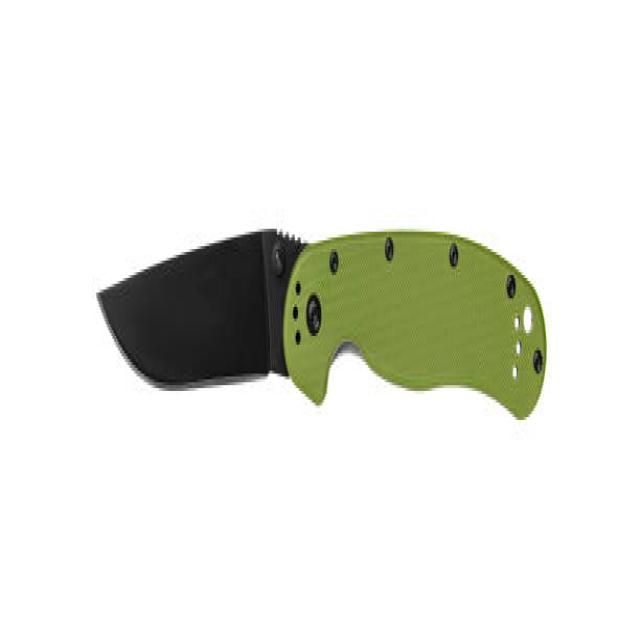knife: (94, 219, 550, 429)
